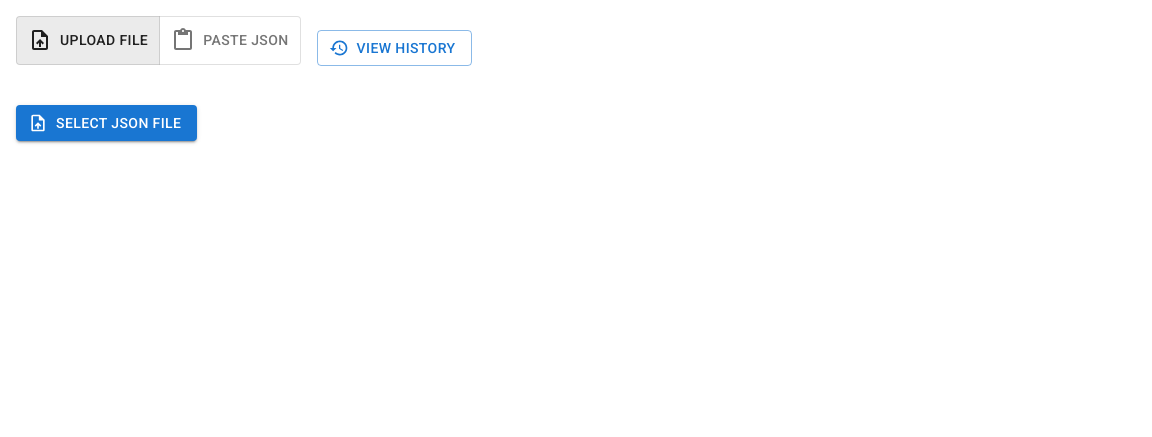
Scenario: JsonImport › Copy/Paste › should reject empty paste content
Click the button "Paste JSON": click(230, 40) [159,16,301,64]
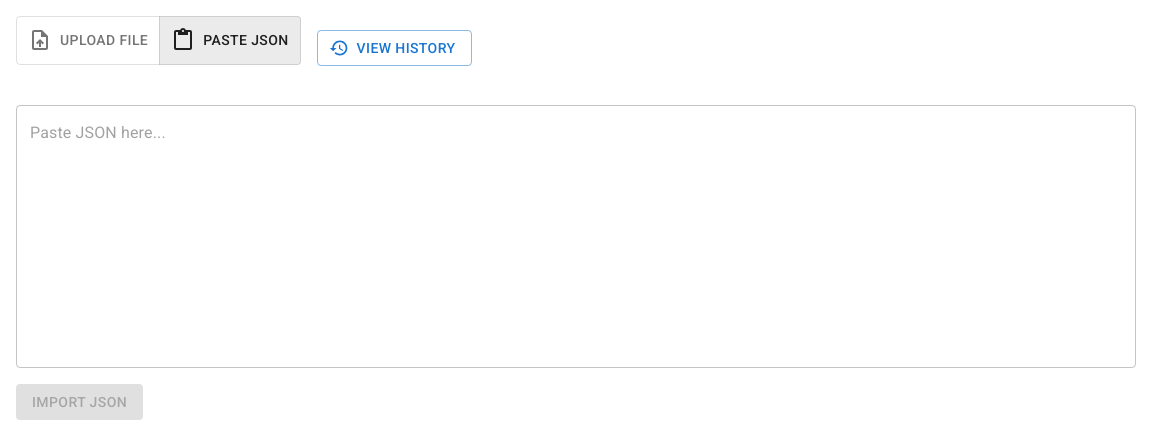
Expected: the button "Import JSON" is disabled, [16,384,143,420]
